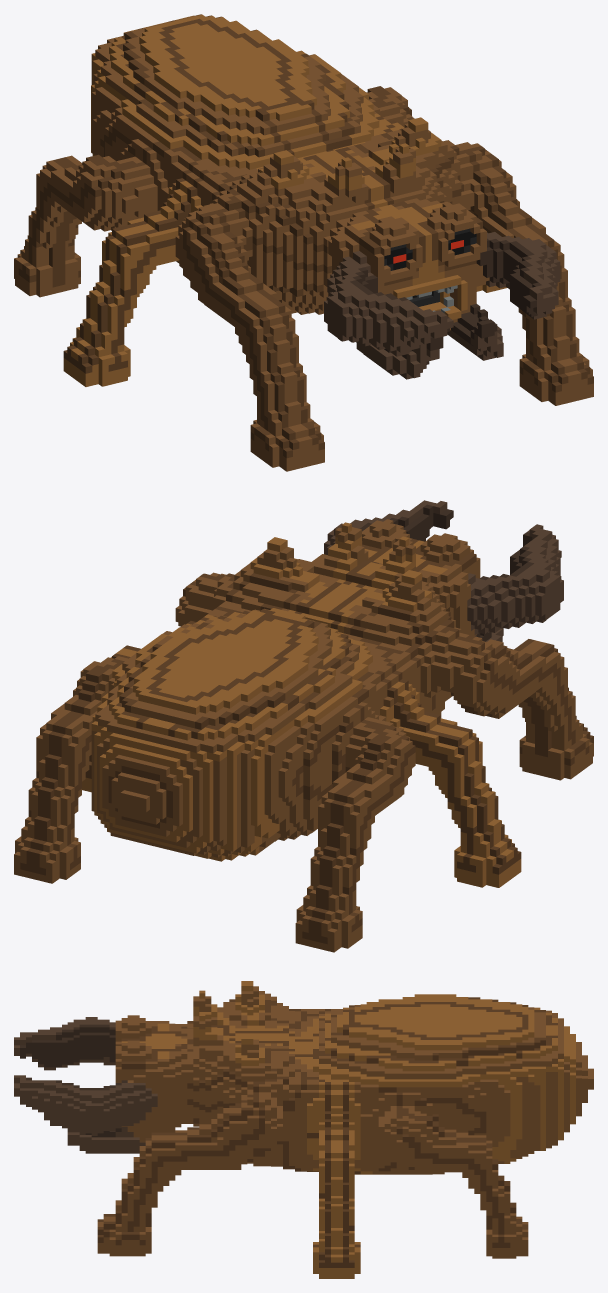
File: beetle_walk_v1-3.obj
The picture shows the model from 3 angles, top to bottom: view 1: azimuth 30°, elevation 25°; view 2: azimuth 150°, elevation 25°; view 3: azimuth 270°, elevation 25°; orthographic projection. The views are drawn at different scales.
Size of the model in its own units: 6.8 by 3.5 by 9.7.
1 material, 1 textured.
